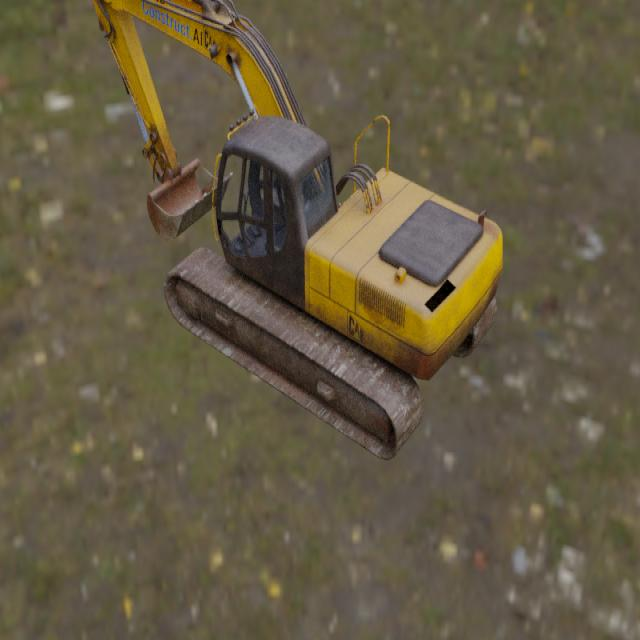excavator: (92, 0, 503, 461)
